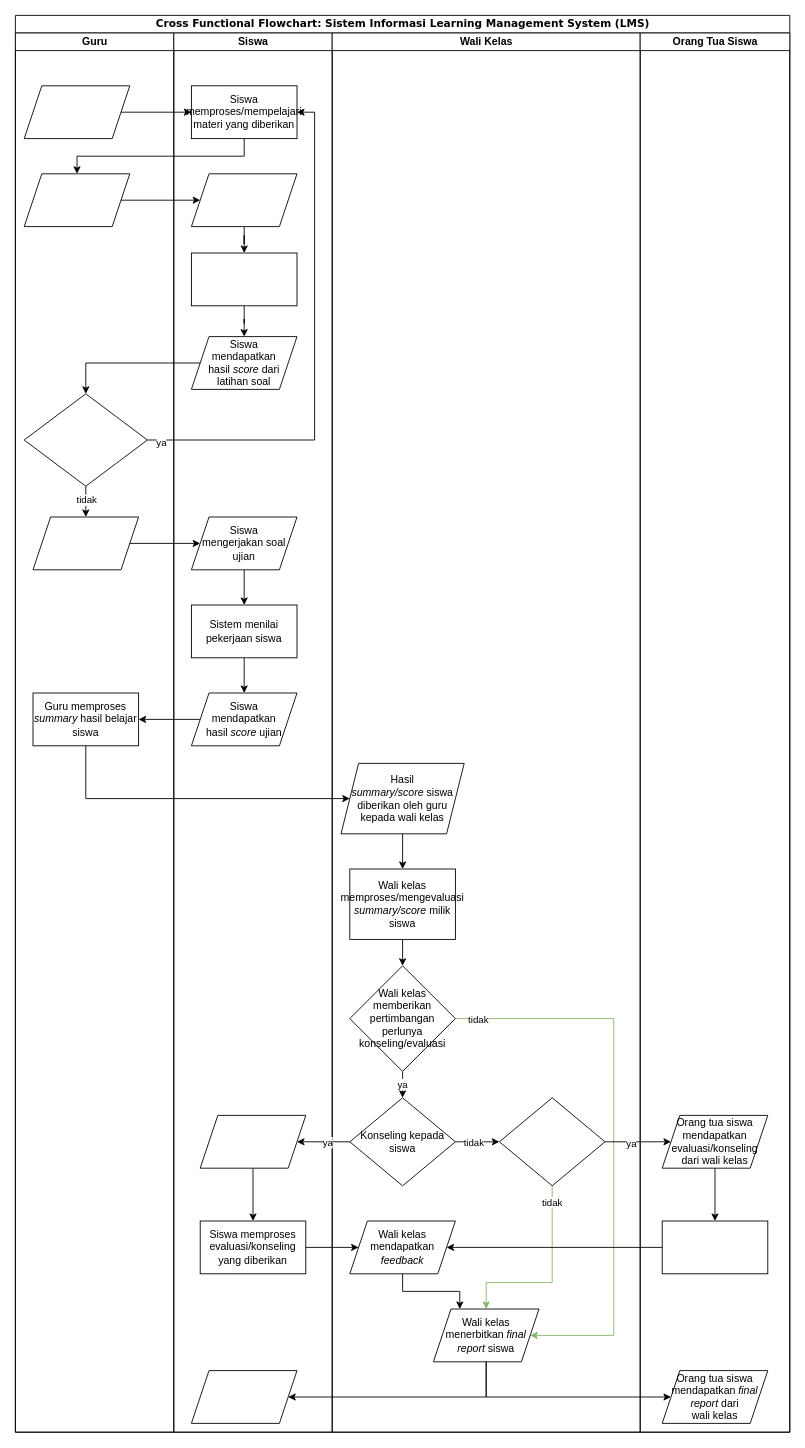
Some shapes in this 805 by 1448 pixel diagram are drawn without their labels. Here are the shapes that lost their labels. From the top down, the centre of each, then its label:
At [76,112]: "Guru input materi pelajaran".
At [76,200]: "Guru memberikan latihan soal".
At [244,200]: "Latihan soal dikerjakan oleh siswa".
At [244,279]: "Sistem menilai latihan soal yang dikerjakan siswa".
At [85,439]: "Guru mengevaluasi perlunya mengulang materi/tidak".
At [85,543]: "Guru input /memberikan soal ujian".
At [252,1141]: "Siswa mendapatkan evaluasi/konseling dari wali kelas".
At [552,1141]: "Konseling kepada orang tua siswa".
At [714,1247]: "Orang tua siswa memproses evaluasi/konseling yang diberikan".
At [244,1396]: "Siswa mendapatkan final report dari wali kelas".
